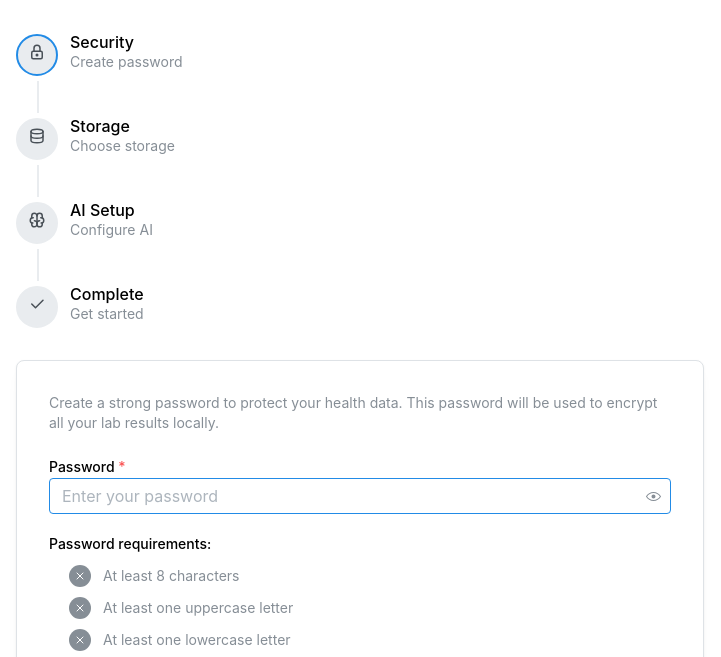
Test case: SetupWizard › Navigation Buttons › enables Next button when password is valid
Type "TestPassword123!" into the password field with placeholder "Enter your password" at (360, 496), box [50,479,670,513]
(page scrolled)
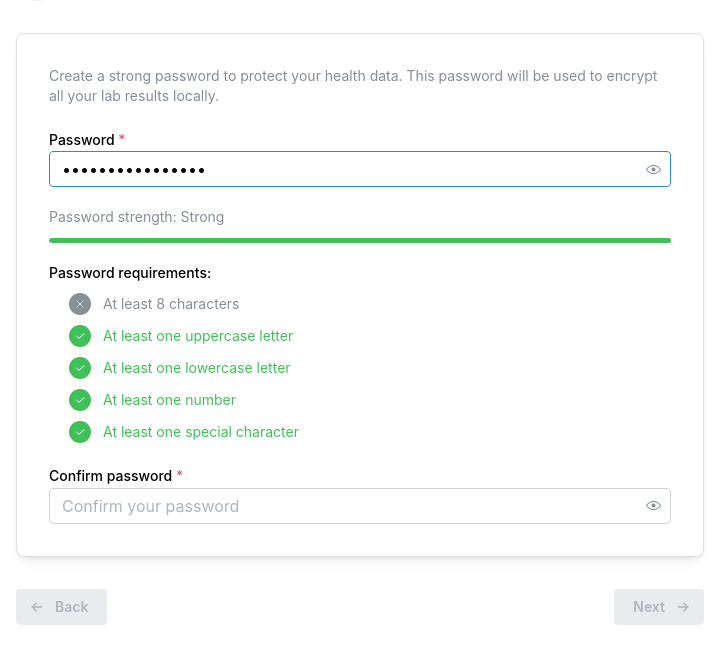
Type "TestPassword123!" into the password field with placeholder "Confirm your password" at (360, 506), box [50,489,670,523]
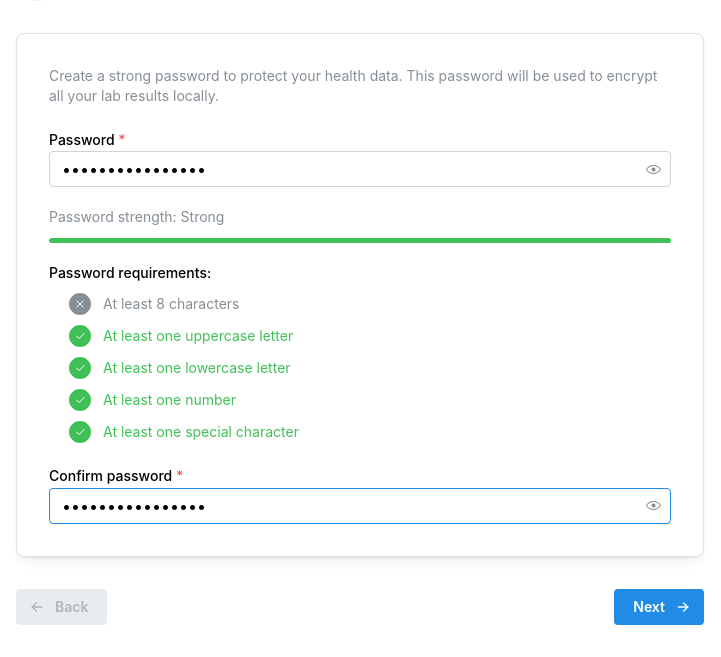
Now the button with aria-label "go to next step" is enabled, box [614,589,704,625]
